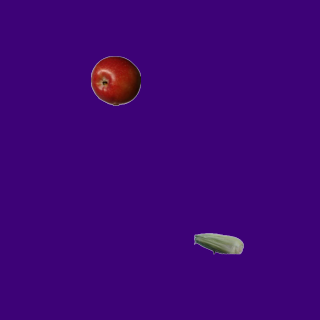Apple Braeburn: (90, 55, 140, 105)
Corn Husk: (193, 218, 243, 268)
